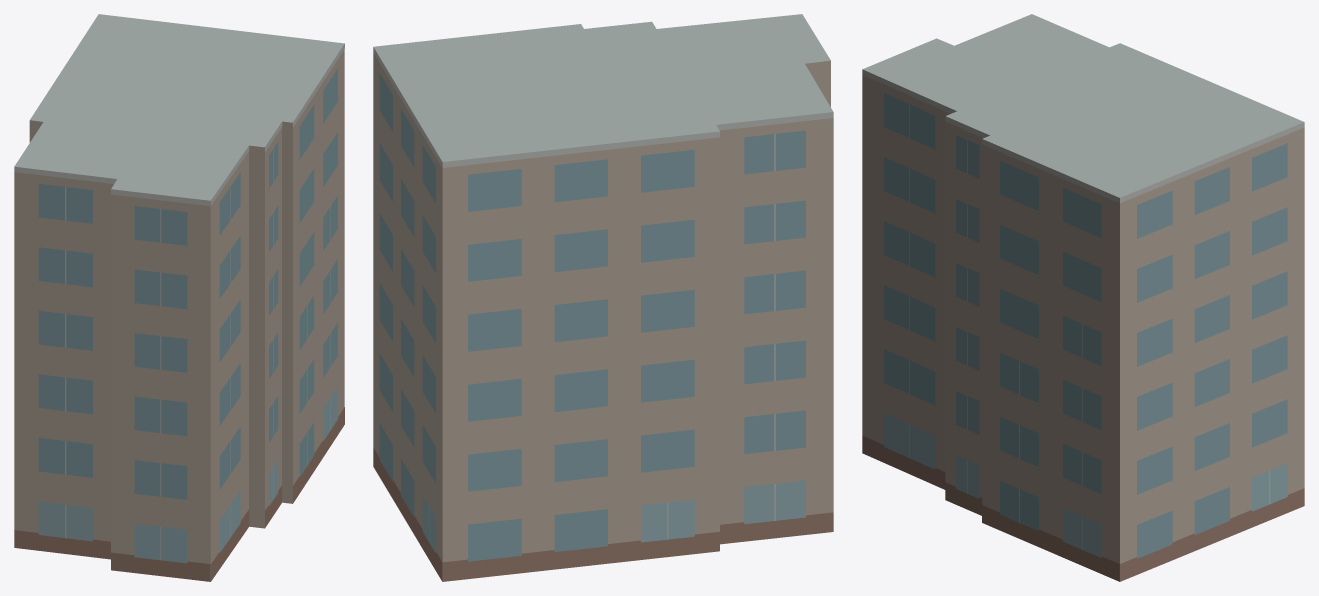
The model's file is survey-upis-32670931.glb.
3 views of the same model, side by side, from view 1: azimuth 30°, elevation 25°; view 2: azimuth 150°, elevation 25°; view 3: azimuth 270°, elevation 25° (orthographic). The views are drawn at different scales.
Parts seen in each view (by area): view 1: survey-upis-32670931.tmp; view 2: survey-upis-32670931.tmp; view 3: survey-upis-32670931.tmp.
Boxes of the visible parts, left/top/right/bottom form: survey-upis-32670931.tmp: left=14, top=14, right=344, bottom=581; survey-upis-32670931.tmp: left=373, top=14, right=833, bottom=581; survey-upis-32670931.tmp: left=862, top=14, right=1304, bottom=581.
Size of the model in its own units: 17.78 by 17.3 by 18.06.
